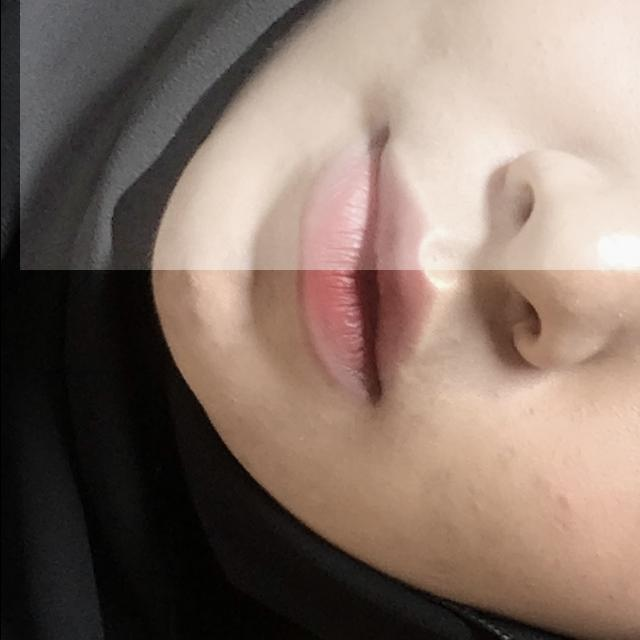ibu: (19, 0, 640, 270)
